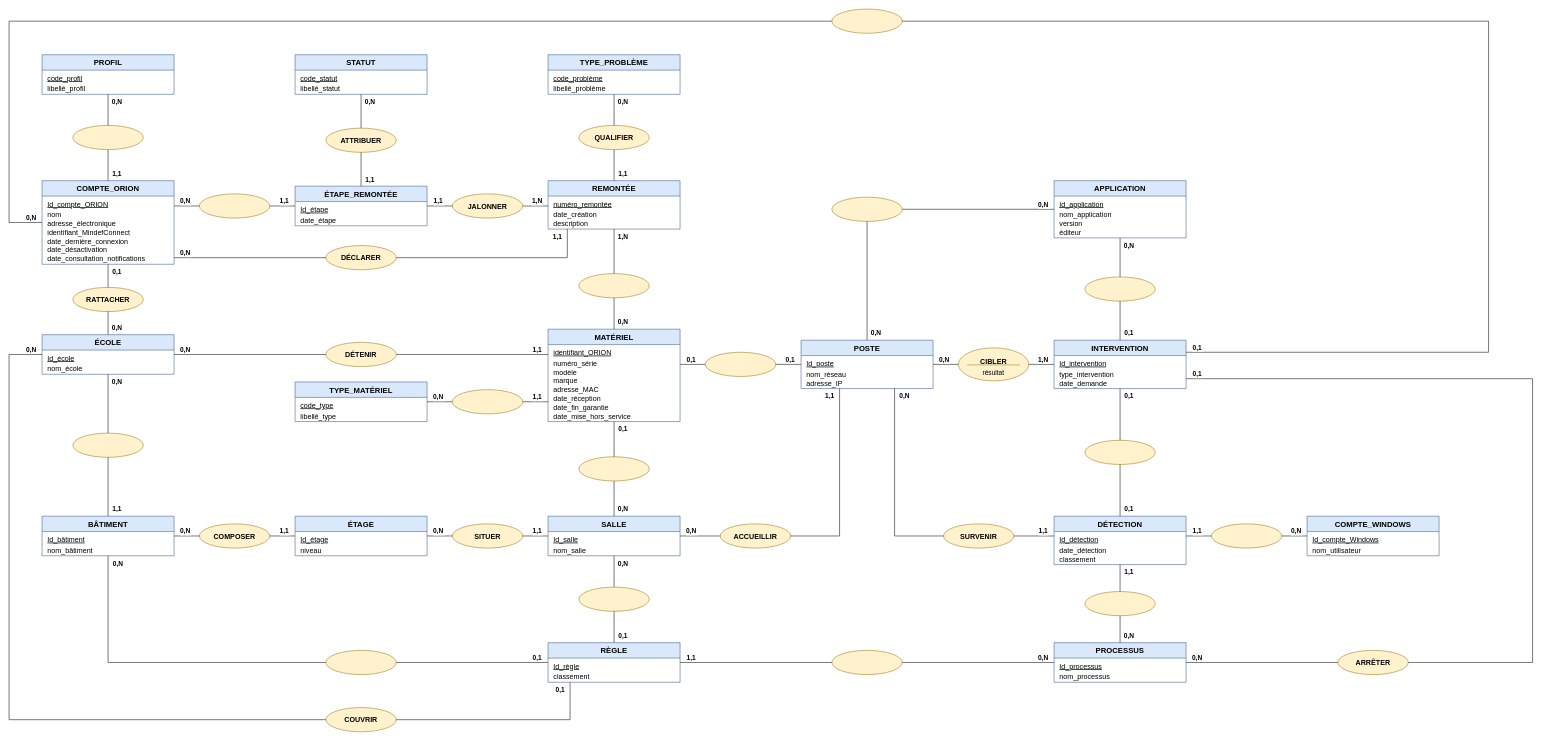
Image size: 1542x741. Some labels were removed from this diagram. Each missing label, with the centre of its shape:
CLASSER: [487,401]
COMPRENDRE: [107,445]
CONCERNER: [613,285]
CONSTITUER: [740,364]
DEMANDER: [866,21]
DÉMÉNAGER: [613,468]
DÉPLOYER: [1119,288]
EFFECTUER: [234,205]
EXÉCUTER: [1246,535]
HABILITER: [107,137]
LIMITER: [360,662]
PROVOQUER: [1119,452]
RÉGLEMENTER: [866,662]
SIGNALER: [1119,603]
VISER: [613,599]
ÉQUIPER: [866,209]
